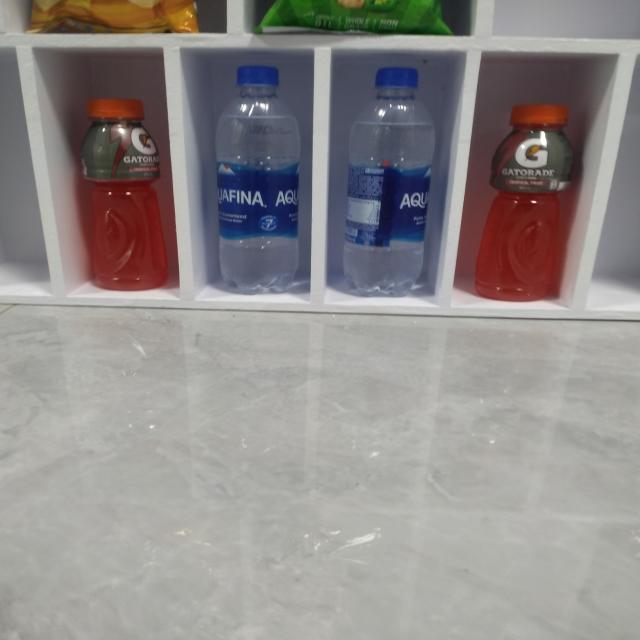Plastic: (334, 60, 436, 298), (68, 88, 178, 292), (478, 101, 577, 301), (220, 63, 302, 294), (262, 0, 454, 35), (20, 0, 204, 31)
